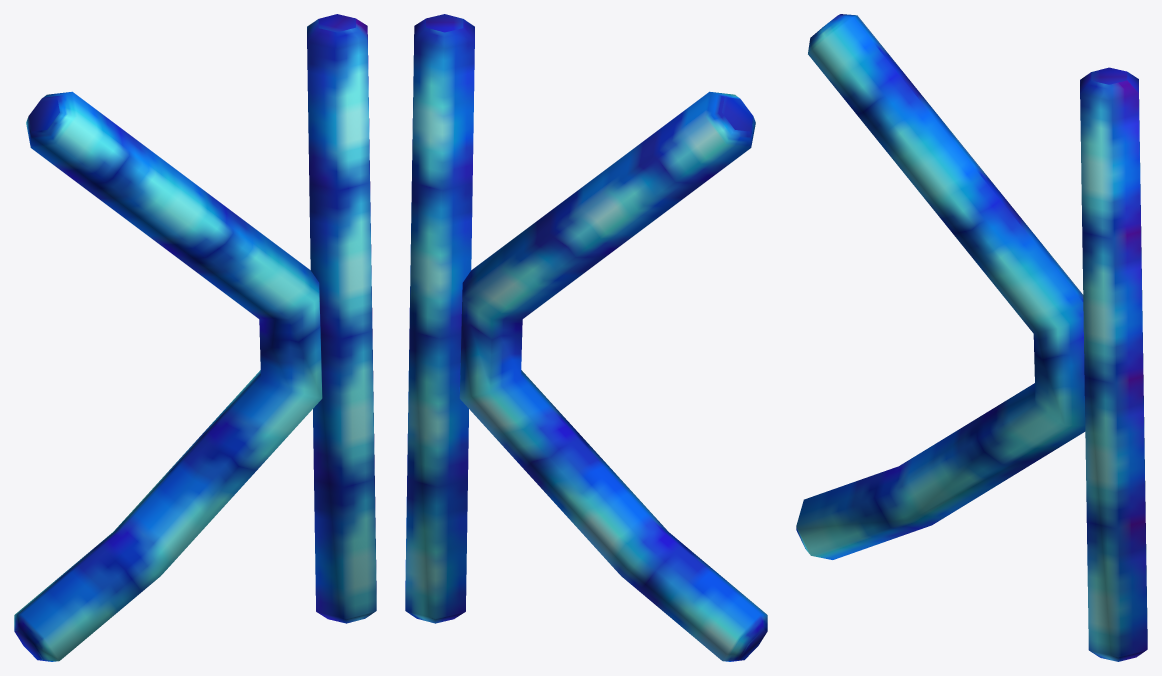
File: furni_0200168.FBX
3 views of the same model, side by side, from view 1: azimuth 30°, elevation 25°; view 2: azimuth 150°, elevation 25°; view 3: azimuth 330°, elevation 25° (orthographic). The views are drawn at different scales.
Parts seen in each view (by area): view 1: furni_0200168; view 2: furni_0200168; view 3: furni_0200168.
Part boxes in pixels (left/top/right/bottom): furni_0200168: left=14, top=14, right=376, bottom=661; furni_0200168: left=405, top=14, right=767, bottom=661; furni_0200168: left=796, top=14, right=1147, bottom=661.
Bounding box in the file's own units: 35.39 × 56.14 × 5.2.
